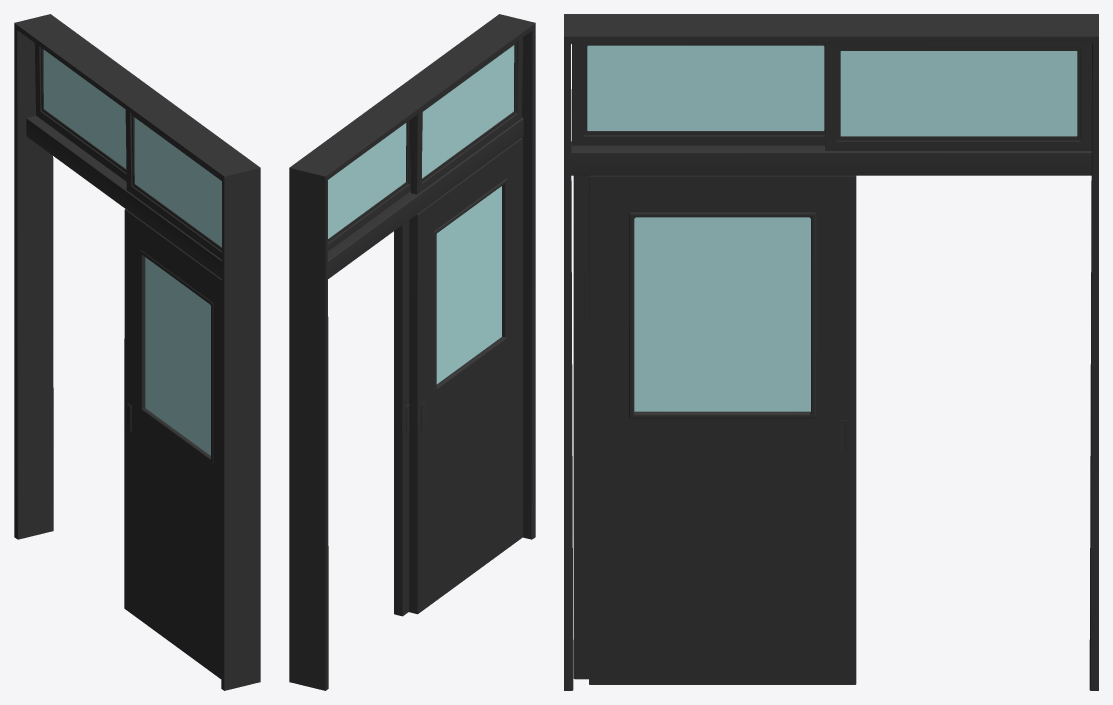
File: SM_Partition_01_Opened.fbx
The picture shows the model from 3 angles, left to right: view 1: azimuth 30°, elevation 25°; view 2: azimuth 150°, elevation 25°; view 3: azimuth 270°, elevation 25°; orthographic projection. The views are drawn at different scales.
Visible parts, largest first — view 1: SM_Partition_01_Opened_LOD0; view 2: SM_Partition_01_Opened_LOD0; view 3: SM_Partition_01_Opened_LOD0.
Boxes of the visible parts, x1,y1,x2,y2 form: SM_Partition_01_Opened_LOD0: (14,14,260,690); SM_Partition_01_Opened_LOD0: (289,14,535,690); SM_Partition_01_Opened_LOD0: (564,14,1098,690).
Size of the model in its own units: 20 by 200 by 270.
